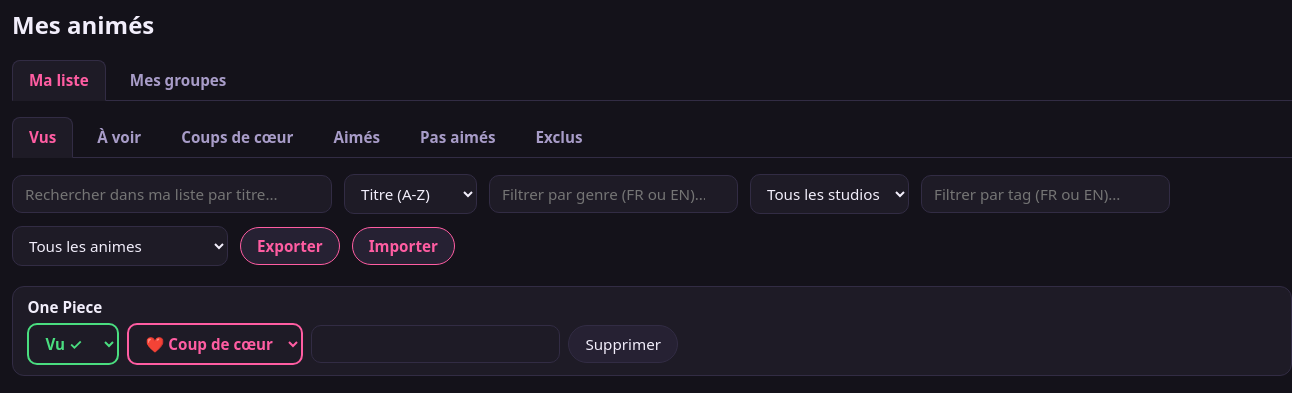
Test: MyList › shows anime still to watch on the "À voir" tab, excluding excluded ones
Click the tab "À voir" at (119, 137), box top-left (81, 117), bottom-right (157, 157)
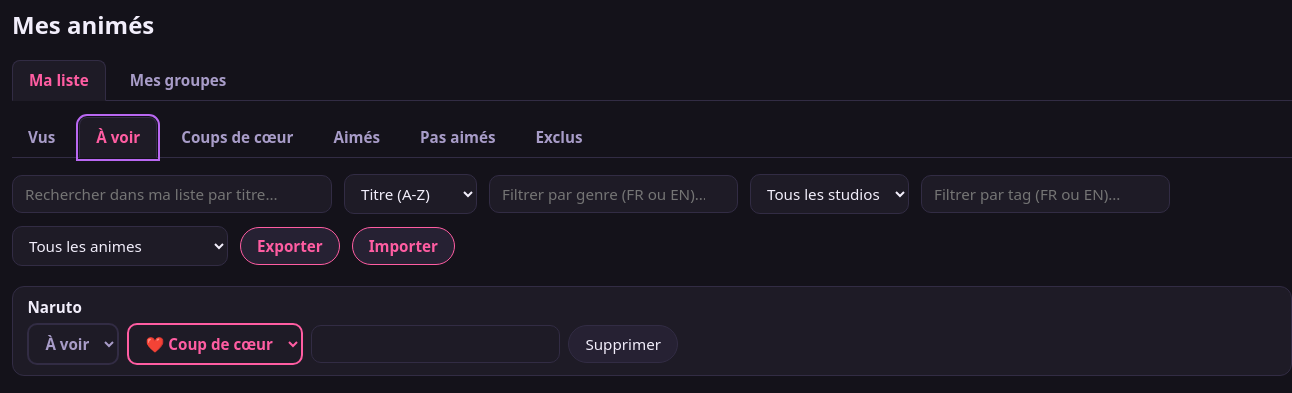
Expected: the button "Naruto" is shown, top-left (27, 297), bottom-right (1277, 317)
Expected: the button "One Piece" is gone
